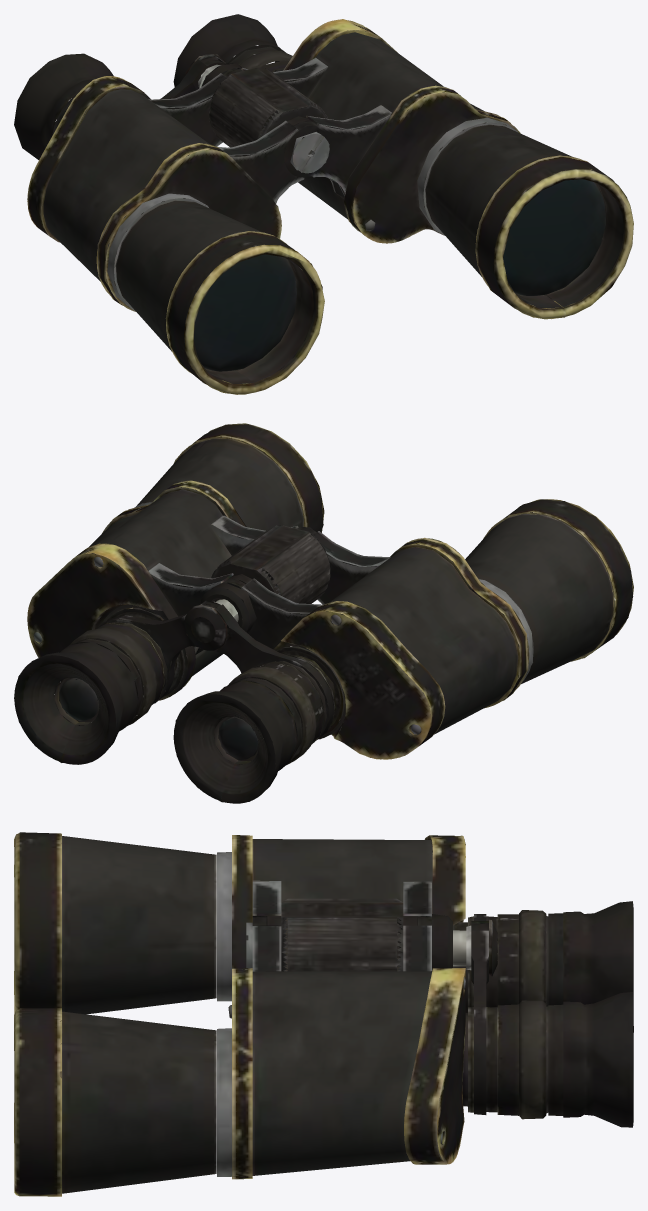
Rendered from vintage_binocular.glb.
3 views of the same model, one above another, from view 1: azimuth 30°, elevation 25°; view 2: azimuth 150°, elevation 25°; view 3: azimuth 270°, elevation 25° (orthographic). The views are drawn at different scales.
Parts seen in each view (by area): view 1: vintage_binocular_right_prism, vintage_binocular_left_prism, vintage_binocular_right_lens, vintage_binocular_focus, vintage_binocular_left_lens, vintage_binocular_middle; view 2: vintage_binocular_right_prism, vintage_binocular_left_prism, vintage_binocular_left_lens, vintage_binocular_right_lens, vintage_binocular_focus, vintage_binocular_diopter, vintage_binocular_eye_relief, vintage_binocular_middle; view 3: vintage_binocular_left_prism, vintage_binocular_right_prism, vintage_binocular_left_lens, vintage_binocular_right_lens, vintage_binocular_focus, vintage_binocular_diopter, vintage_binocular_middle, vintage_binocular_eye_relief.
Part boxes in pixels (<box>): vintage_binocular_right_prism: <box>27,73,324,394</box>; vintage_binocular_left_prism: <box>207,19,633,319</box>; vintage_binocular_right_lens: <box>14,53,224,159</box>; vintage_binocular_focus: <box>209,67,329,147</box>; vintage_binocular_left_lens: <box>173,14,292,86</box>; vintage_binocular_middle: <box>201,63,329,173</box>; vintage_binocular_right_prism: <box>228,499,633,759</box>; vintage_binocular_left_prism: <box>27,423,331,700</box>; vintage_binocular_left_lens: <box>14,601,216,764</box>; vintage_binocular_right_lens: <box>173,601,336,803</box>; vintage_binocular_focus: <box>211,525,330,603</box>; vintage_binocular_diopter: <box>229,661,324,764</box>; vintage_binocular_eye_relief: <box>184,599,242,650</box>; vintage_binocular_middle: <box>200,582,256,633</box>; vintage_binocular_left_prism: <box>14,916,465,1196</box>; vintage_binocular_right_prism: <box>14,832,465,1018</box>; vintage_binocular_left_lens: <box>447,923,633,1127</box>; vintage_binocular_right_lens: <box>455,901,633,1032</box>; vintage_binocular_focus: <box>281,898,403,971</box>; vintage_binocular_diopter: <box>497,910,546,1005</box>; vintage_binocular_middle: <box>246,914,452,970</box>; vintage_binocular_eye_relief: <box>453,919,497,976</box>.
Bounding box in the file's own units: 0.1944 × 0.0686 × 0.1995.
Materials: 1 (1 with a texture image).
